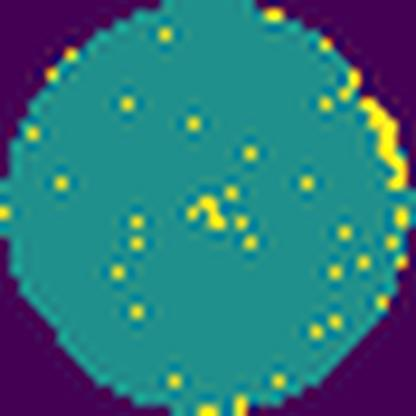Edge-Loc: (355, 98, 409, 190)
